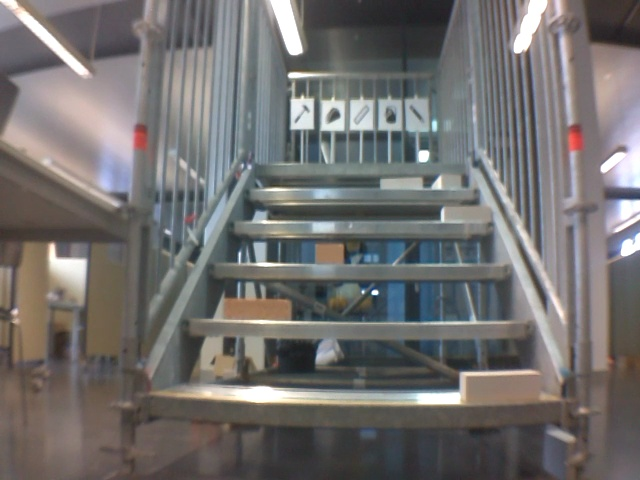brick: (461, 370, 540, 403), (224, 298, 291, 320), (442, 206, 491, 221), (315, 245, 343, 264), (381, 178, 422, 189), (433, 174, 461, 189)
bucket: (381, 104, 400, 126)
edge: (148, 395, 561, 425), (180, 320, 536, 338), (204, 264, 512, 279), (224, 221, 497, 234), (245, 188, 481, 200), (252, 163, 467, 174)
hammer: (293, 102, 313, 126)
pencil: (405, 102, 427, 128)
ruler: (353, 102, 370, 126)
stairs: (120, 1, 592, 474)
steps: (145, 156, 570, 431)
taco: (323, 104, 342, 127)
